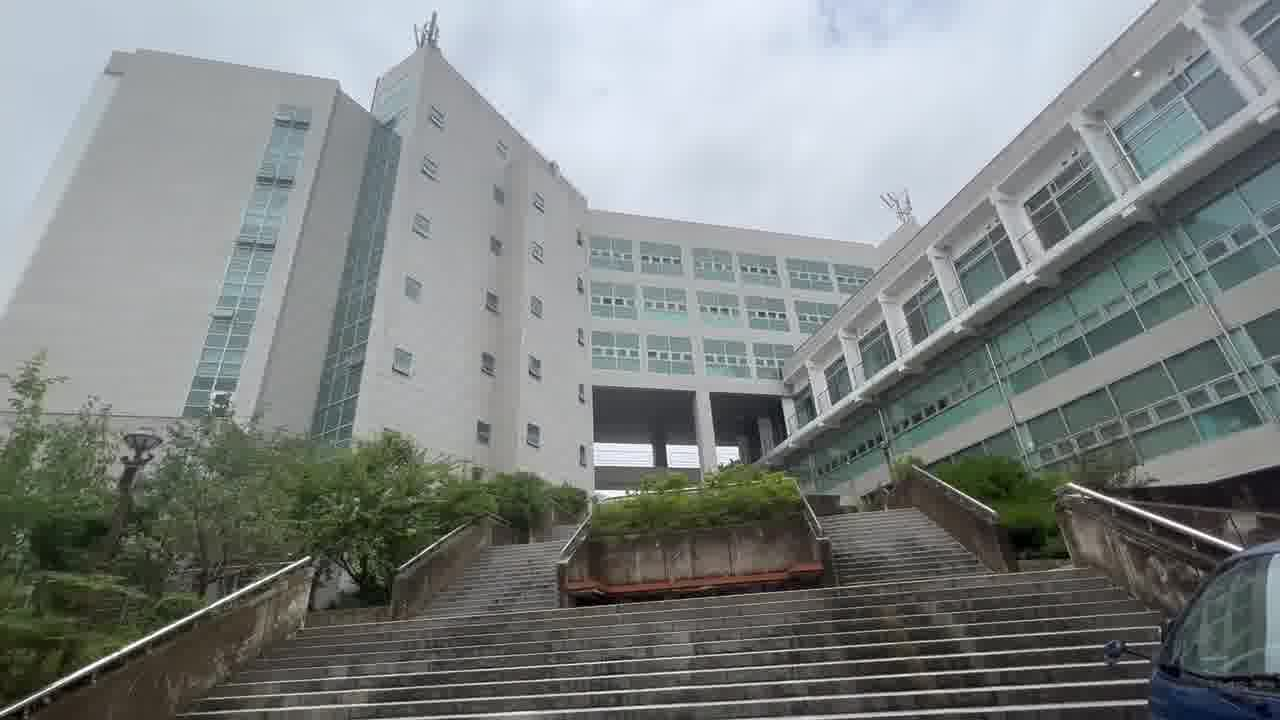low: (68, 77, 850, 420)
